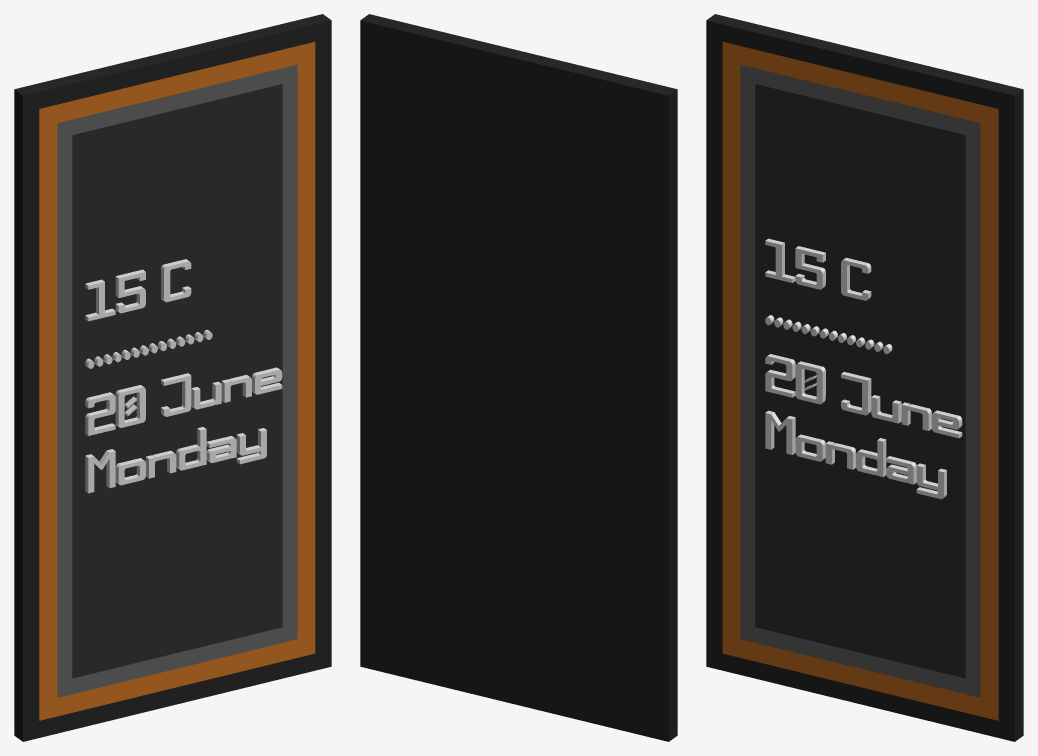
The model's file is Thermometer.fbx.
3 views of the same model, side by side, from view 1: azimuth 30°, elevation 25°; view 2: azimuth 150°, elevation 25°; view 3: azimuth 330°, elevation 25° (orthographic).
Parts seen in each view (by area): view 1: Thermometer; view 2: Thermometer; view 3: Thermometer.
Boxes of the visible parts, box(x1,y1,x2,y2) form: Thermometer: box(14, 14, 331, 741); Thermometer: box(360, 14, 677, 741); Thermometer: box(706, 14, 1023, 741).
Size of the model in its own units: 1 by 2 by 0.0676.
